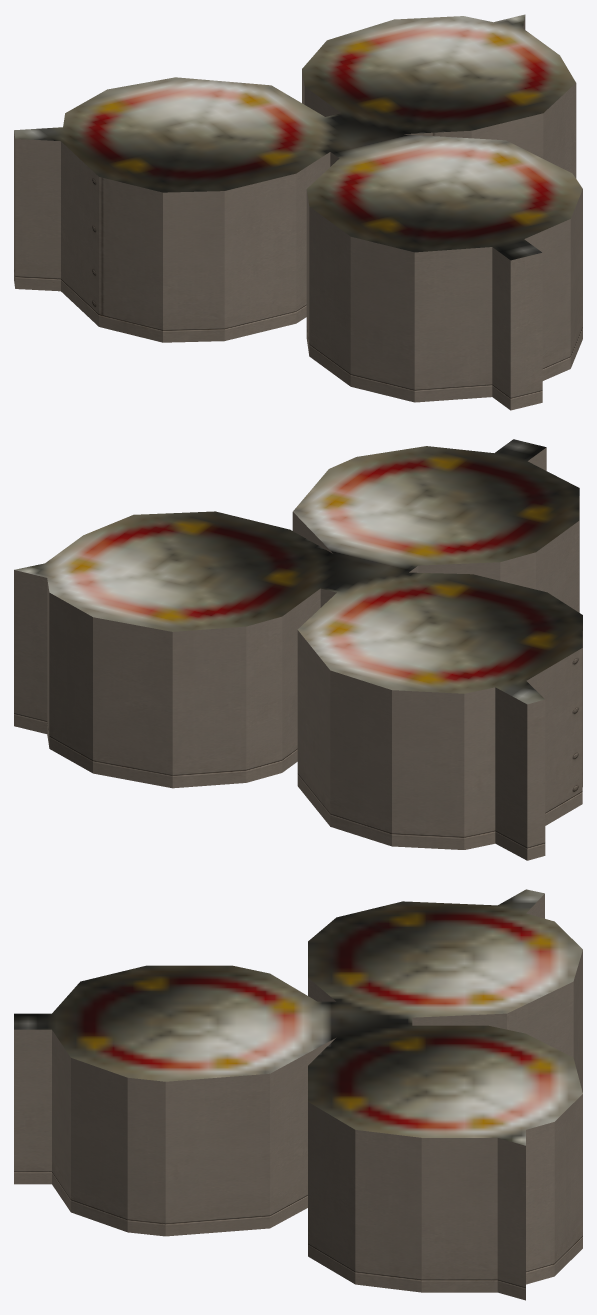
Rendered from fuel_tank_light_42.glb.
The picture shows the model from 3 angles, top to bottom: view 1: azimuth 30°, elevation 25°; view 2: azimuth 150°, elevation 25°; view 3: azimuth 270°, elevation 25°; orthographic projection. The views are drawn at different scales.
Visible parts, largest first — view 1: buildings/saxarba/fuel_tanks/fuel_tank_light_42; view 2: buildings/saxarba/fuel_tanks/fuel_tank_light_42; view 3: buildings/saxarba/fuel_tanks/fuel_tank_light_42.
Boxes of the visible parts, <box> form: buildings/saxarba/fuel_tanks/fuel_tank_light_42: <box>14,14,582,410</box>; buildings/saxarba/fuel_tanks/fuel_tank_light_42: <box>14,439,582,860</box>; buildings/saxarba/fuel_tanks/fuel_tank_light_42: <box>14,889,582,1300</box>.
Size of the model in its own units: 64 by 18 by 60.
